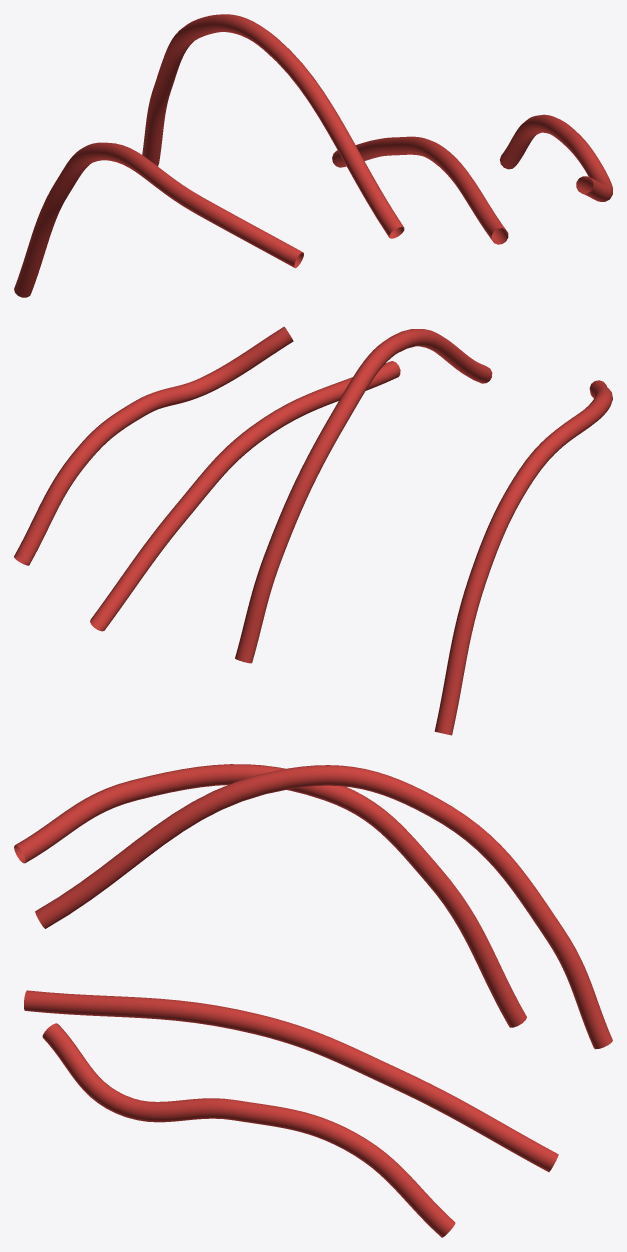
3 renders of one model, top to bottom at view 1: azimuth 30°, elevation 25°; view 2: azimuth 150°, elevation 25°; view 3: azimuth 270°, elevation 25°, orthographic. The views are drawn at different scales.
Parts seen in each view (by area): view 1: 左侧掌心动脉; view 2: 左侧掌心动脉; view 3: 左侧掌心动脉.
Part boxes in pixels (<box>): 左侧掌心动脉: <box>14,14,612,297</box>; 左侧掌心动脉: <box>14,326,612,735</box>; 左侧掌心动脉: <box>14,764,612,1237</box>.
Bounding box in the file's own units: 0.0621 × 0.0373 × 0.0592.
